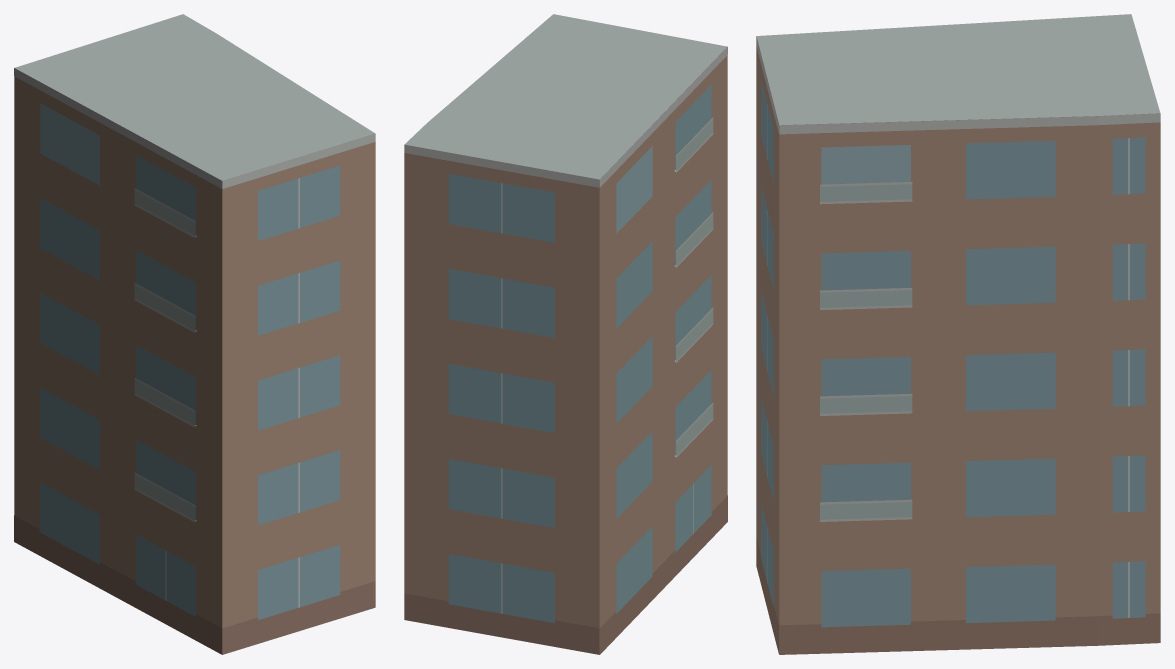
The model's file is survey-upis-32474090.glb.
3 views of the same model, side by side, from view 1: azimuth 30°, elevation 25°; view 2: azimuth 150°, elevation 25°; view 3: azimuth 270°, elevation 25° (orthographic). The views are drawn at different scales.
Parts seen in each view (by area): view 1: survey-upis-32474090.tmp; view 2: survey-upis-32474090.tmp; view 3: survey-upis-32474090.tmp.
Part boxes in pixels (<box>): survey-upis-32474090.tmp: <box>14,14,375,654</box>; survey-upis-32474090.tmp: <box>404,14,727,654</box>; survey-upis-32474090.tmp: <box>756,14,1160,654</box>.
Bounding box in the file's own units: 6.36 × 14.1 × 9.76.
